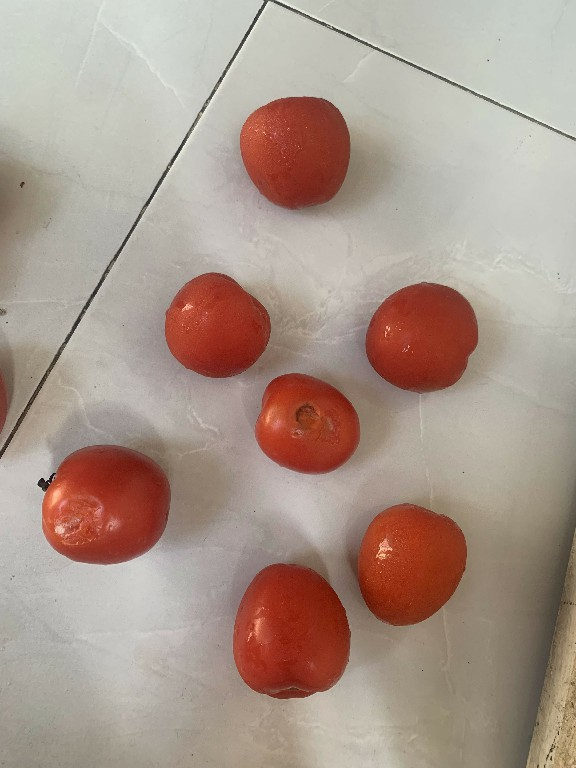NG: (36, 425, 178, 575), (241, 370, 377, 477)
OK: (227, 548, 368, 699), (230, 84, 364, 222), (357, 485, 481, 632), (369, 271, 488, 408), (146, 259, 277, 378)
